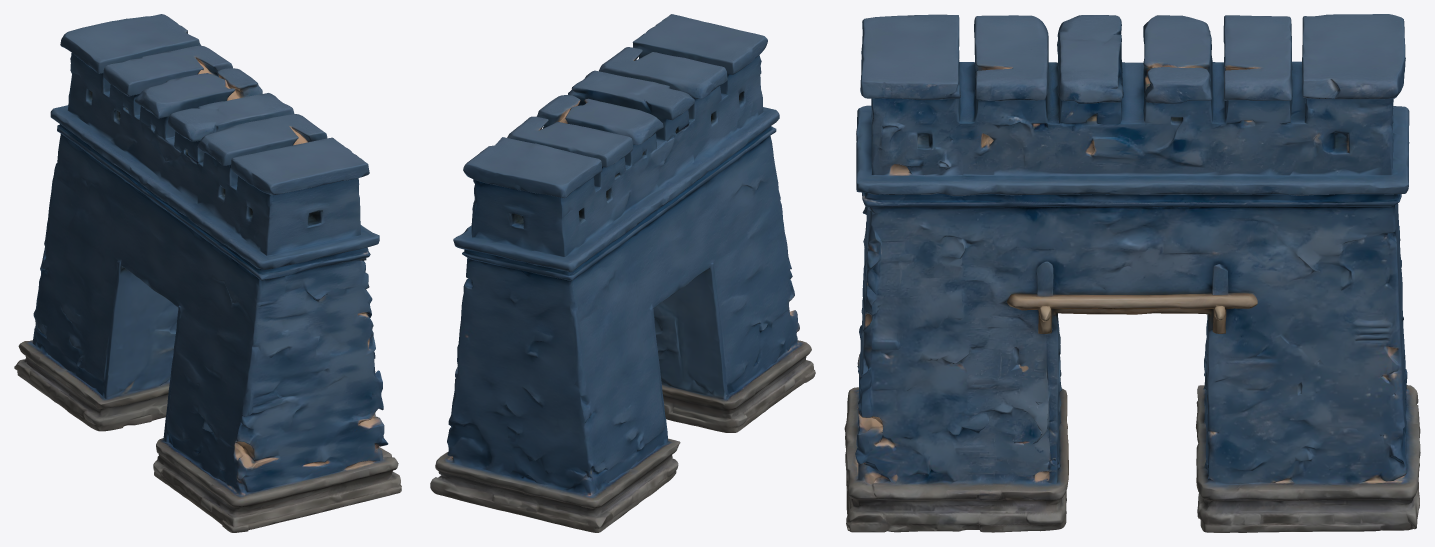
File: gate-b.glb
3 renders of one model, left to right at view 1: azimuth 30°, elevation 25°; view 2: azimuth 150°, elevation 25°; view 3: azimuth 270°, elevation 25°, orthographic. The views are drawn at different scales.
Visible parts, largest first — view 1: tripo_node_6e663572-c341-481e-ab89-1635dba4bf3a; view 2: tripo_node_6e663572-c341-481e-ab89-1635dba4bf3a; view 3: tripo_node_6e663572-c341-481e-ab89-1635dba4bf3a.
Part boxes in pixels (bbox=[...]): tripo_node_6e663572-c341-481e-ab89-1635dba4bf3a: bbox=[14, 14, 401, 532]; tripo_node_6e663572-c341-481e-ab89-1635dba4bf3a: bbox=[430, 14, 815, 532]; tripo_node_6e663572-c341-481e-ab89-1635dba4bf3a: bbox=[844, 14, 1420, 532].
Bounding box in the file's own units: 0.4539 × 0.8405 × 1.
Materials: 1 (1 with a texture image).
